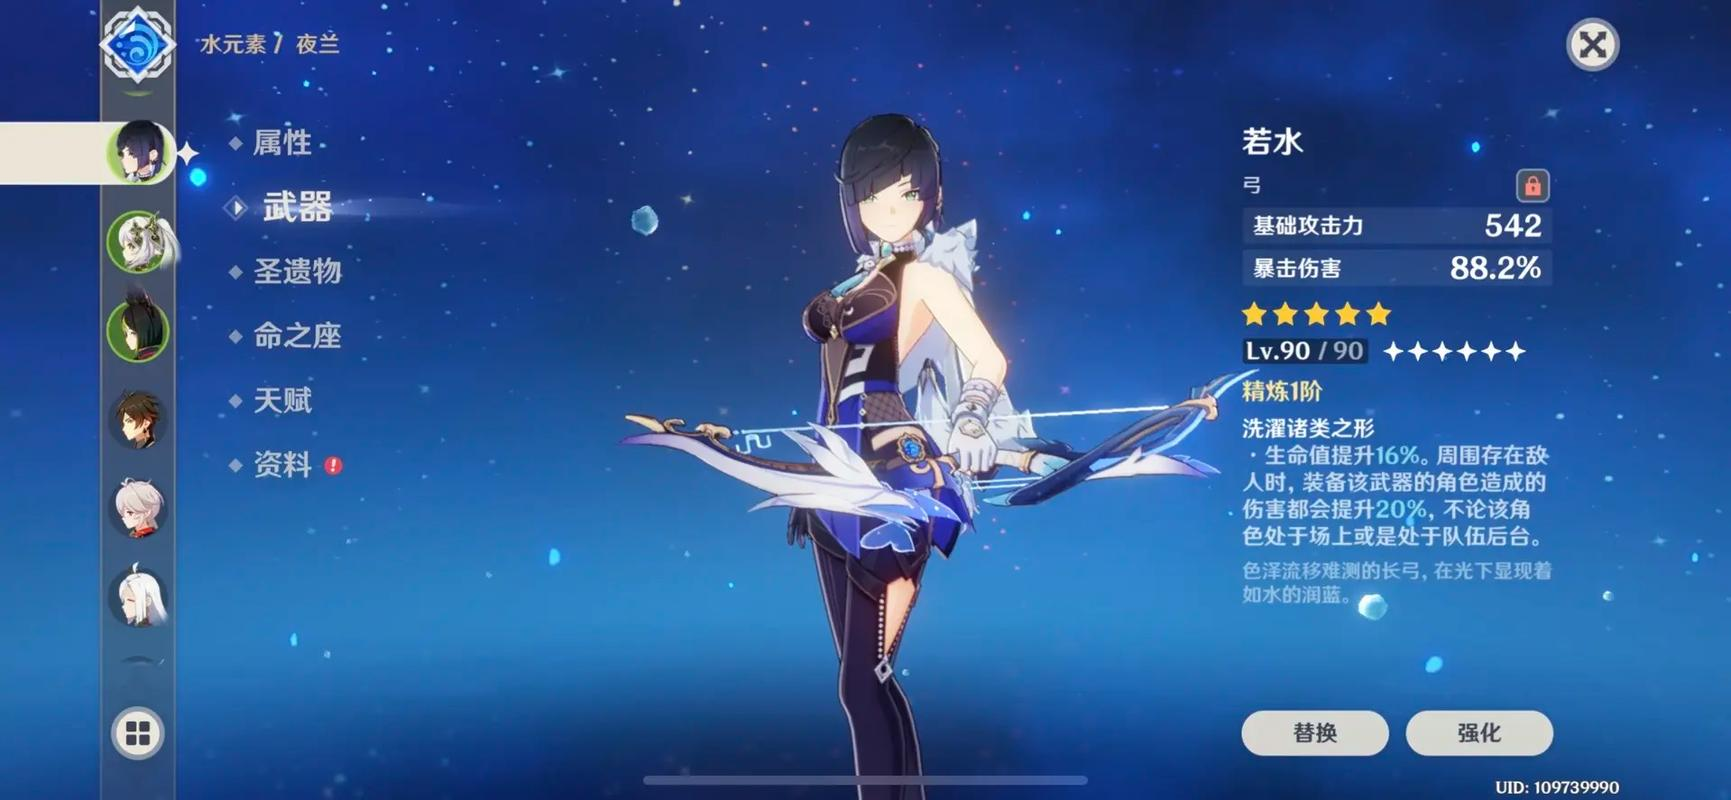夜兰: (778, 96, 1017, 799)
